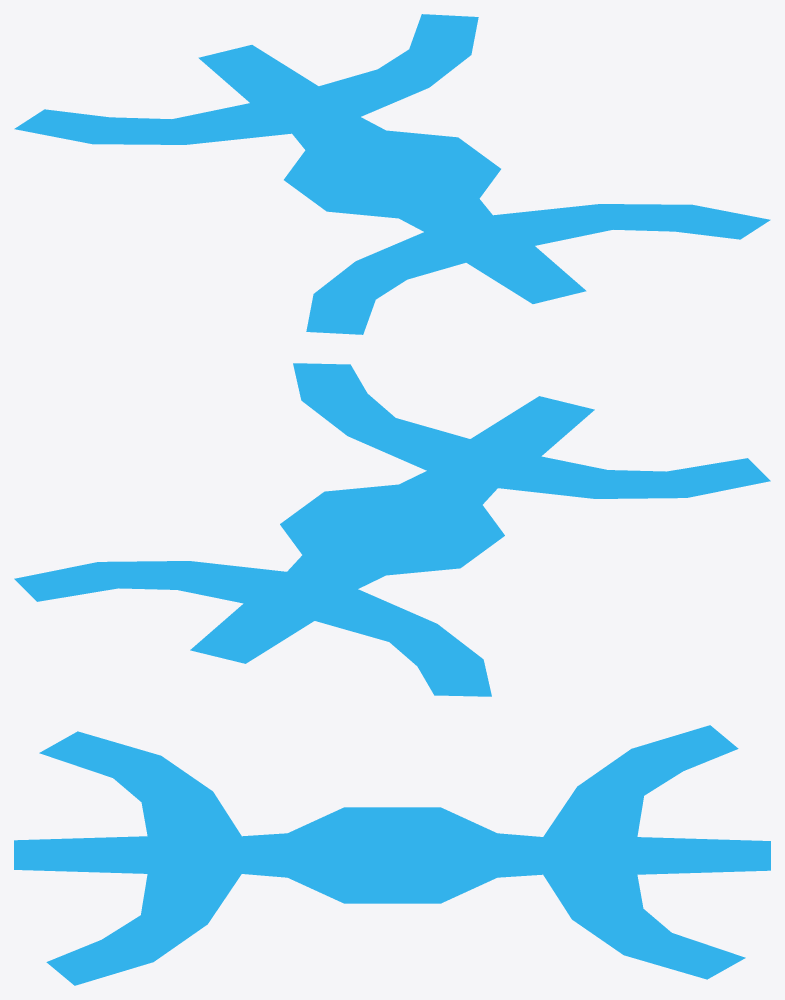
File: hieroglyph_014.glb
3 renders of one model, top to bottom at view 1: azimuth 30°, elevation 25°; view 2: azimuth 150°, elevation 25°; view 3: azimuth 270°, elevation 25°, orthographic. The views are drawn at different scales.
Parts seen in each view (by area): view 1: hieroglyph_014; view 2: hieroglyph_014; view 3: hieroglyph_014.
Boxes of the visible parts, x1=… form: hieroglyph_014: x1=14, y1=14, x2=770, y2=334; hieroglyph_014: x1=14, y1=363, x2=770, y2=696; hieroglyph_014: x1=14, y1=725, x2=770, y2=985.
Size of the model in its own units: 0.4764 by 0 by 0.5843.
1 material, 1 textured.
